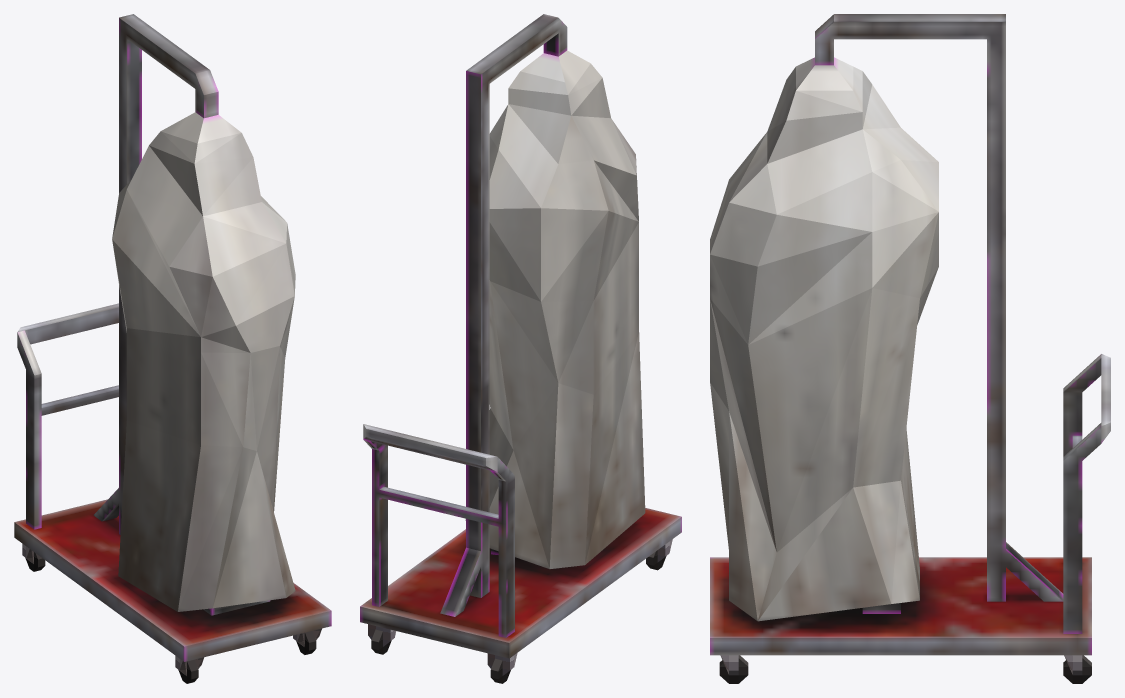
The model's file is clarity.fbx.
The picture shows the model from 3 angles, left to right: view 1: azimuth 30°, elevation 25°; view 2: azimuth 150°, elevation 25°; view 3: azimuth 270°, elevation 25°; orthographic projection. The views are drawn at different scales.
Parts seen in each view (by area): view 1: clarity_caster.001; view 2: clarity_caster.001; view 3: clarity_caster.001.
Boxes of the visible parts, x1,y1,x2,y2 form: clarity_caster.001: (14, 14, 331, 683); clarity_caster.001: (360, 14, 681, 683); clarity_caster.001: (710, 14, 1110, 683).
Size of the model in its own units: 100 by 365 by 210.
